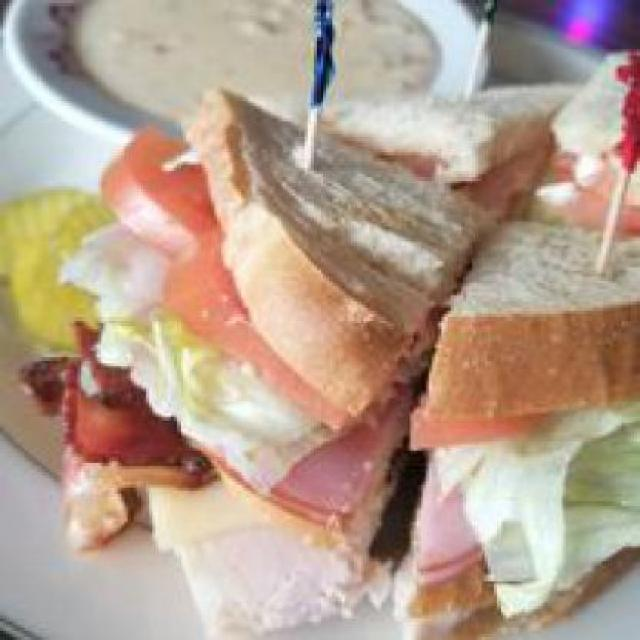club sandwich: (59, 71, 636, 637)
